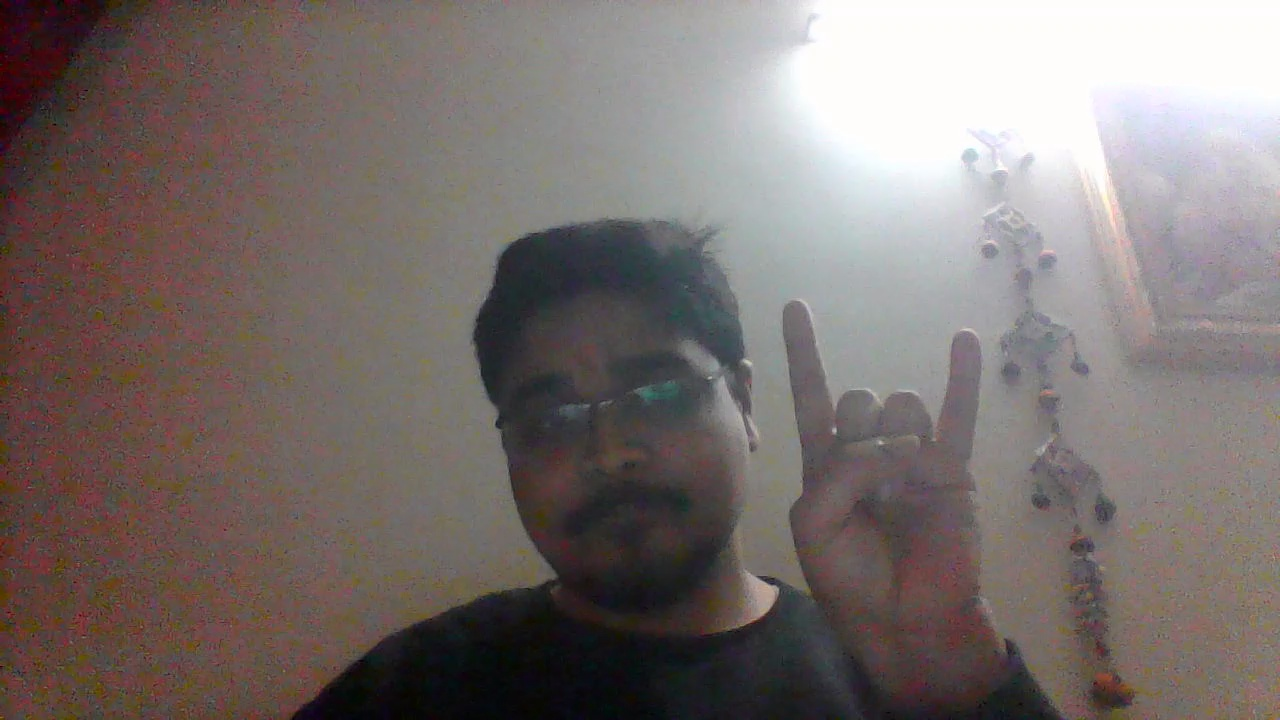ILoveYou: (780, 298, 984, 639)
